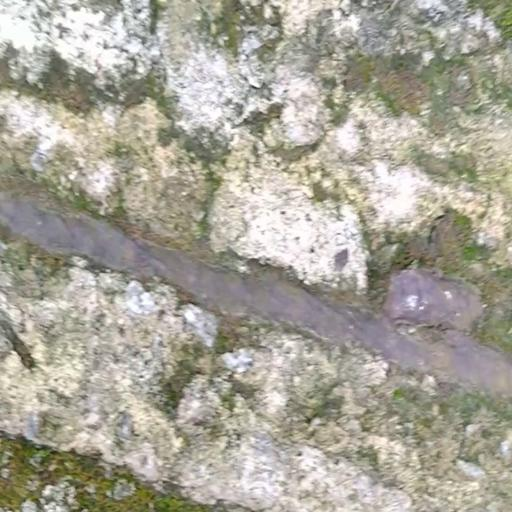spalling: (0, 2, 512, 506)
